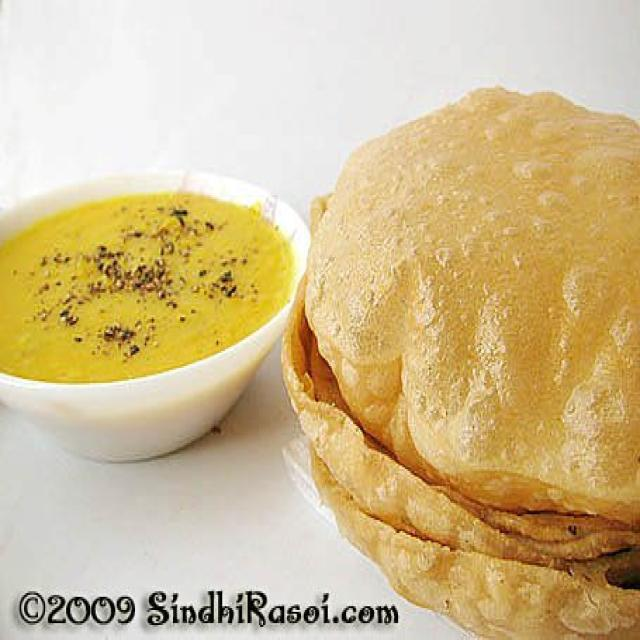puri: (309, 71, 640, 638)
